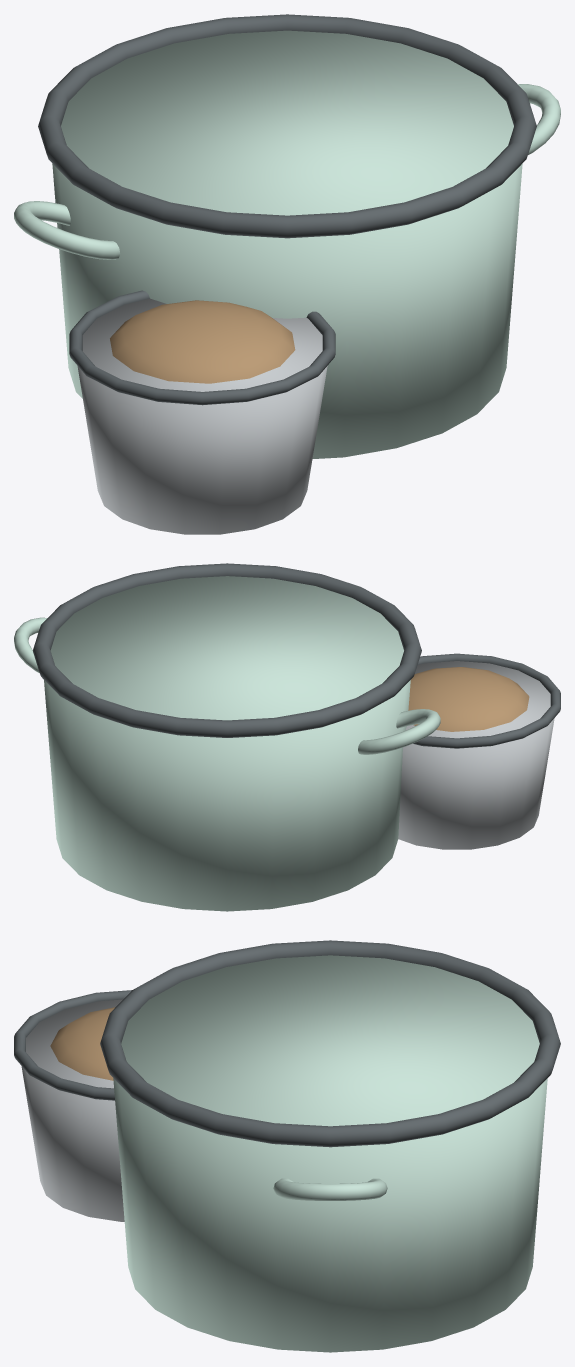
File: enamel-pot.glb
3 views of the same model, one above another, from view 1: azimuth 30°, elevation 25°; view 2: azimuth 150°, elevation 25°; view 3: azimuth 270°, elevation 25° (orthographic). The views are drawn at different scales.
Parts seen in each view (by area): view 1: Pot_Body; view 2: Pot_Body; view 3: Pot_Body.
Part boxes in pixels (<box>): Pot_Body: <box>14,14,560,534</box>; Pot_Body: <box>14,563,560,911</box>; Pot_Body: <box>14,940,560,1352</box>.
Size of the model in its own units: 1.39 by 0.5828 by 1.24.
